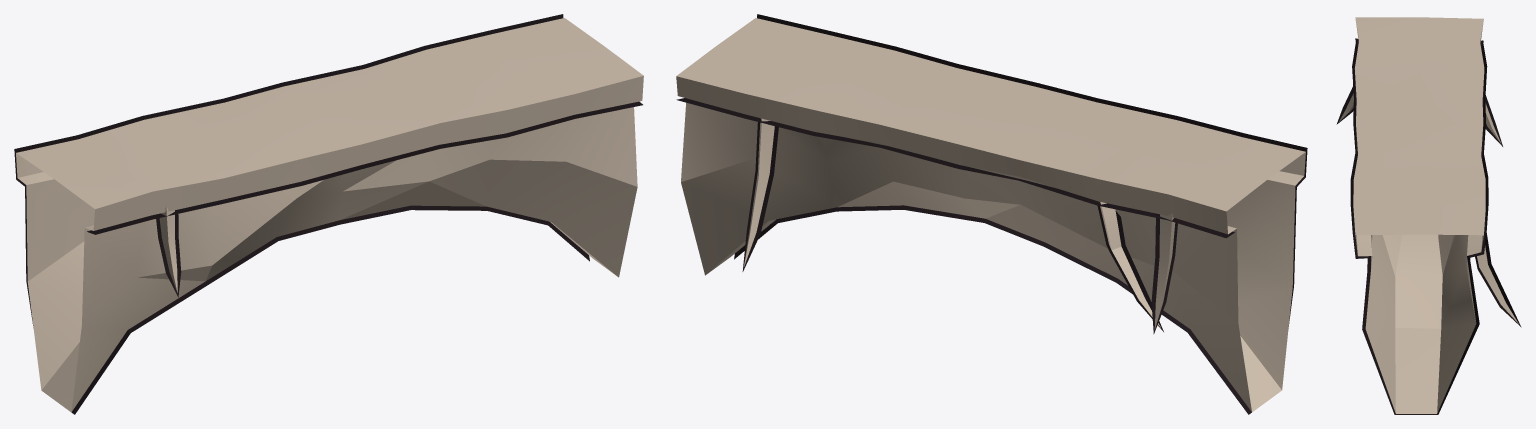
Rendered from SM_Trail_Deck_20.fbx.
The picture shows the model from 3 angles, left to right: view 1: azimuth 30°, elevation 25°; view 2: azimuth 150°, elevation 25°; view 3: azimuth 270°, elevation 25°; orthographic projection. The views are drawn at different scales.
Parts seen in each view (by area): view 1: SM_Trail_Deck_20; view 2: SM_Trail_Deck_20; view 3: SM_Trail_Deck_20.
Boxes of the visible parts, left/top/right/bottom form: SM_Trail_Deck_20: left=14, top=14, right=643, bottom=414; SM_Trail_Deck_20: left=676, top=14, right=1307, bottom=414; SM_Trail_Deck_20: left=1336, top=17, right=1521, bottom=414.
Size of the model in its own units: 20 by 7.92 by 7.2.
